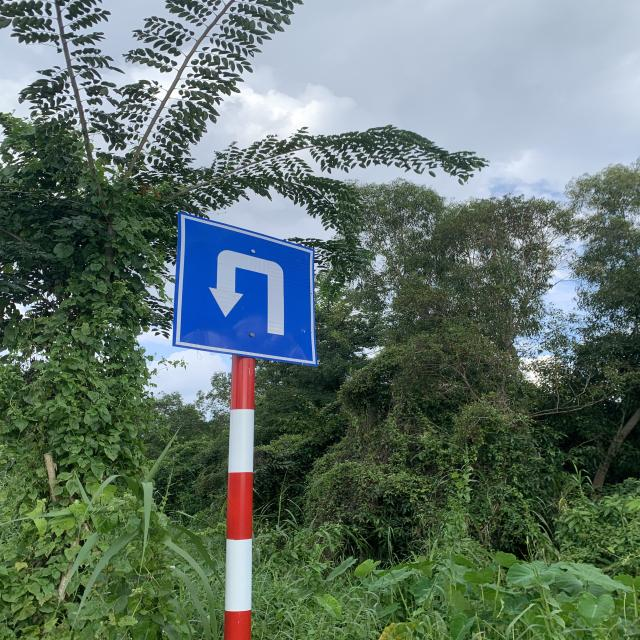Den_Giao_Thong: (176, 217, 314, 368)
